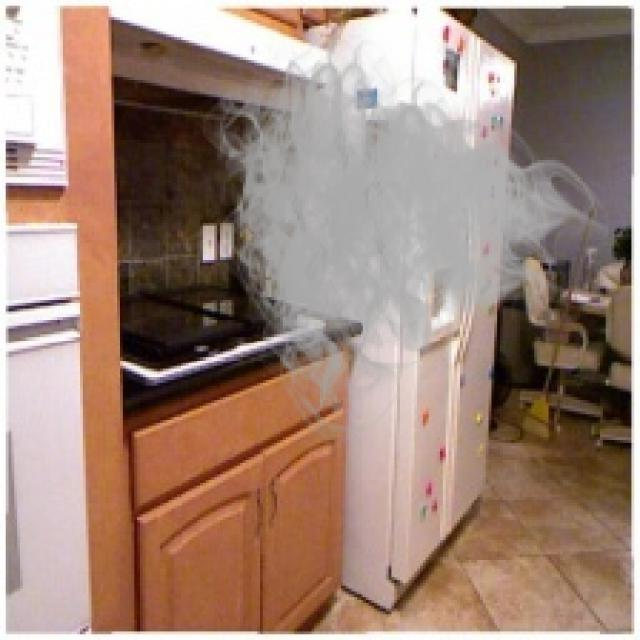Smoke: (192, 22, 608, 448)
